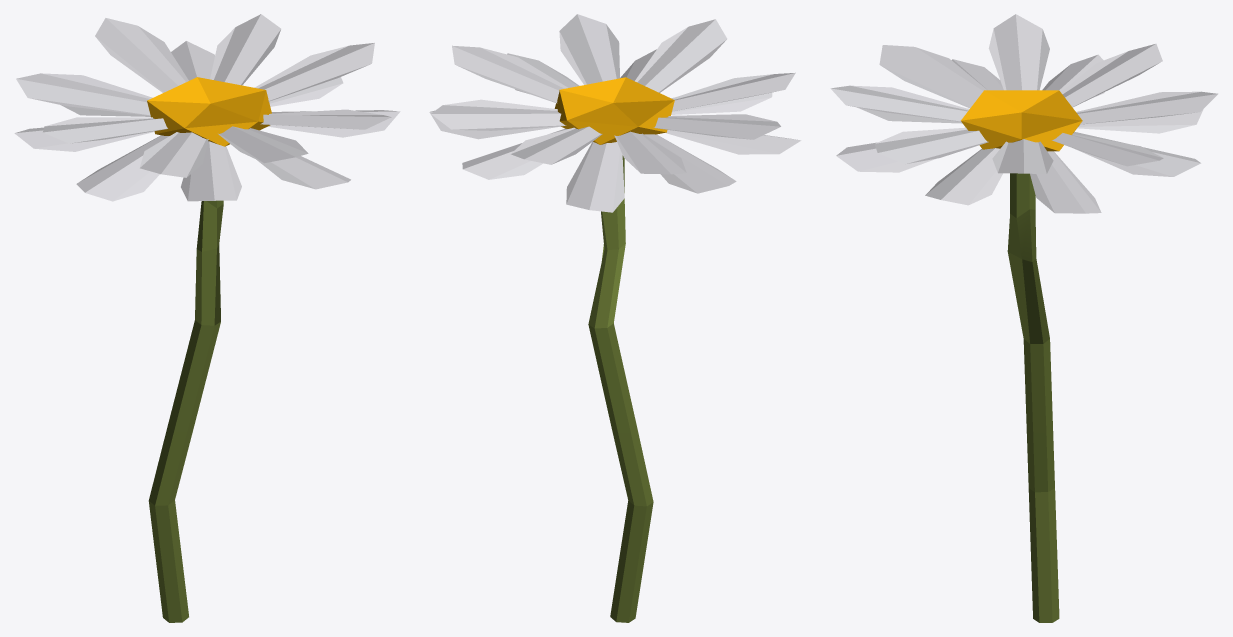
Rendered from flower_platform.fbx.
3 renders of one model, left to right at view 1: azimuth 30°, elevation 25°; view 2: azimuth 150°, elevation 25°; view 3: azimuth 270°, elevation 25°, orthographic. The views are drawn at different scales.
Parts seen in each view (by area): view 1: polySurface2, polySurface1; view 2: polySurface2, polySurface1; view 3: polySurface2, polySurface1.
Part boxes in pixels (left/top/right/bottom): polySurface2: left=14, top=14, right=400, bottom=622; polySurface1: left=147, top=77, right=271, bottom=146; polySurface2: left=429, top=14, right=801, bottom=622; polySurface1: left=554, top=77, right=674, bottom=144; polySurface2: left=830, top=14, right=1217, bottom=622; polySurface1: left=961, top=90, right=1082, bottom=151.
Bounding box in the file's own units: 3.66 × 5.59 × 3.66.
